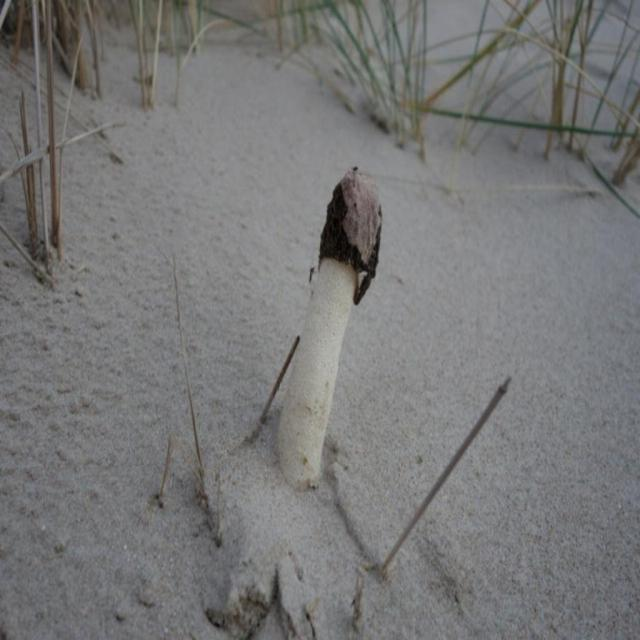Dictyophora indusiate: (280, 172, 383, 490)
